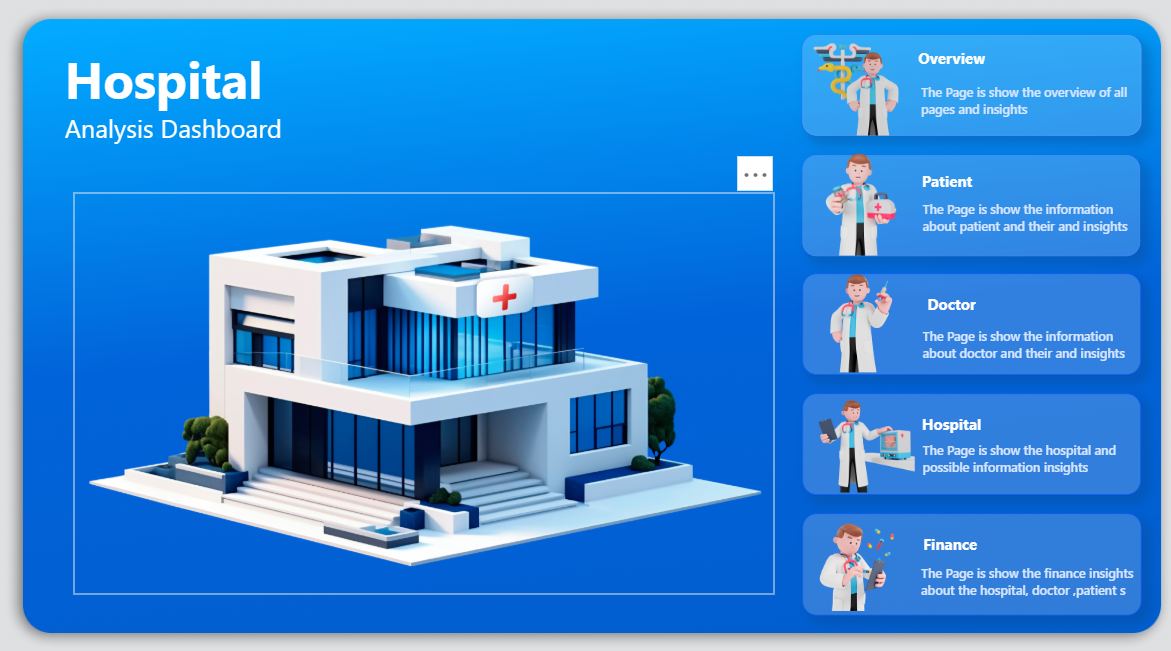

The page's visual inventory and layout, read from the dashboard file:
{"tool":"powerbi","page":{"name":"Home","canvas":[1280,720],"ordinal":0},"visuals":[{"type":"shape","box":[863.1,558.4,359,108.1],"z":0},{"type":"shape","box":[863.1,50.5,359,106.9],"z":2000},{"type":"shape","box":[863.4,304.4,358.3,107],"z":3000},{"type":"shape","box":[863.4,431.4,358.3,107],"z":5000},{"type":"shape","box":[863.7,177.4,357.8,107],"z":6000},{"type":"image","box":[858.2,157.3,128.5,135.7],"z":7000},{"type":"textbox","box":[76.8,55.2,414.3,150.1],"z":8000},{"type":"image","box":[858.2,45.7,126.1,116.5],"z":9000},{"type":"image","box":[863.3,558.3,117.7,108.1],"z":10000},{"type":"image","box":[863,293,118.9,122.5],"z":11000},{"type":"image","box":[869.3,416.7,117.7,130.9],"z":12000},{"type":"shape","box":[985.4,54.1,74.4,39.6],"z":13000},{"type":"shape","box":[980.6,183.8,74.4,39.6],"z":14000},{"type":"shape","box":[985.7,314.2,74.4,39.6],"z":15000},{"type":"shape","box":[985.7,442.6,74.4,39.6],"z":16000},{"type":"shape","box":[984.5,569.9,74.4,39.6],"z":17000},{"type":"shape","box":[989,90.1,225.7,55.2],"z":18000},{"type":"shape","box":[991.4,213.8,230.5,58.8],"z":19000},{"type":"shape","box":[991.4,348.3,231.7,57.6],"z":20000},{"type":"shape","box":[991.4,469.5,231.7,57.6],"z":21000},{"type":"shape","box":[989,604,241.4,46.8],"z":22000},{"type":"image","box":[90.1,218.5,743.3,426.3],"z":23000},{"type":"actionButton","box":[866.9,51.6,351.8,103.3],"z":24000},{"type":"actionButton","box":[869.3,178.9,351.8,103.3],"z":25000},{"type":"actionButton","box":[870.5,307.4,351.8,103.3],"z":26000},{"type":"actionButton","box":[865.7,560.8,351.8,103.3],"z":27000},{"type":"actionButton","box":[865.5,433.3,351.2,102.4],"z":28000}]}

Visuals, with their boxes in screenshot pixels (x1, y1, x2, y2), scaled from the page's 1280x720 canvas onto the 1171x651 screenshot:
shape: box(790, 505, 1118, 603)
shape: box(790, 46, 1118, 142)
shape: box(790, 275, 1118, 372)
shape: box(790, 390, 1118, 487)
shape: box(790, 160, 1117, 257)
image: box(785, 142, 903, 265)
textbox: box(70, 50, 449, 186)
image: box(785, 41, 900, 147)
image: box(790, 505, 897, 603)
image: box(790, 265, 898, 376)
image: box(795, 377, 903, 495)
shape: box(901, 49, 970, 85)
shape: box(897, 166, 965, 202)
shape: box(902, 284, 970, 320)
shape: box(902, 400, 970, 436)
shape: box(901, 515, 969, 551)
shape: box(905, 81, 1111, 131)
shape: box(907, 193, 1118, 246)
shape: box(907, 315, 1119, 367)
shape: box(907, 425, 1119, 477)
shape: box(905, 546, 1126, 588)
image: box(82, 198, 762, 583)
actionButton: box(793, 47, 1115, 140)
actionButton: box(795, 162, 1117, 255)
actionButton: box(796, 278, 1118, 371)
actionButton: box(792, 507, 1114, 600)
actionButton: box(792, 392, 1113, 484)
